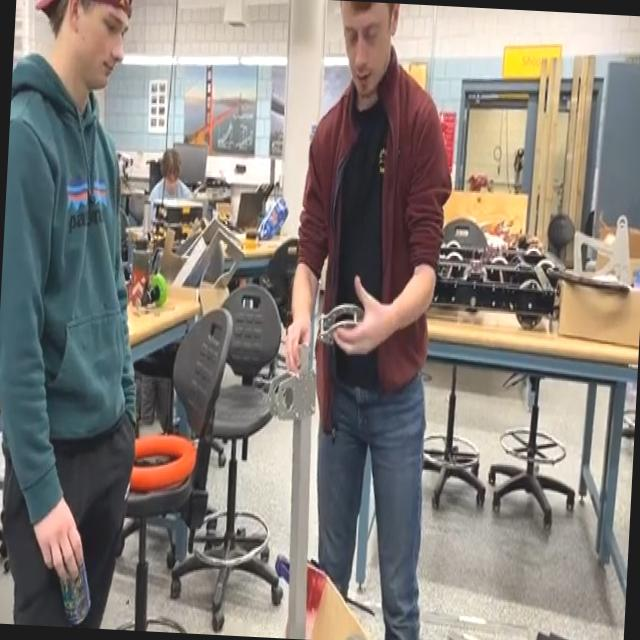note: (127, 426, 201, 500)
